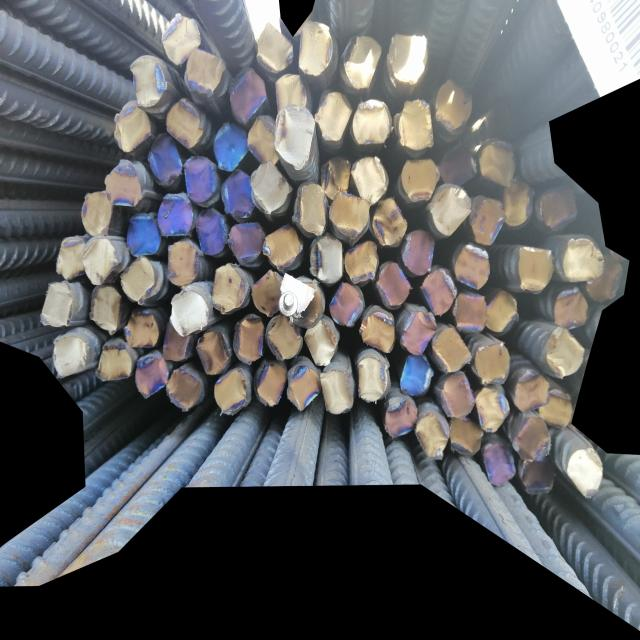Steel-Rod: (180, 49, 241, 102), (292, 15, 334, 86), (102, 155, 155, 210), (386, 35, 438, 90), (149, 187, 201, 238), (158, 12, 204, 67), (343, 31, 384, 92), (226, 64, 266, 126), (329, 191, 373, 247), (133, 53, 174, 113), (274, 112, 316, 170), (111, 100, 152, 159), (210, 117, 253, 173), (168, 289, 216, 339), (250, 25, 296, 77), (180, 151, 222, 207), (118, 259, 168, 306), (400, 225, 440, 283), (473, 433, 515, 488), (371, 260, 416, 311), (229, 304, 266, 366), (166, 96, 208, 150), (428, 184, 470, 238), (303, 307, 340, 368), (322, 279, 368, 328), (544, 329, 590, 378), (432, 82, 477, 132), (368, 200, 413, 250), (88, 281, 128, 337), (357, 95, 393, 157), (219, 167, 258, 224), (160, 237, 205, 286), (455, 289, 495, 344), (398, 97, 436, 154), (84, 238, 131, 284), (147, 131, 183, 191), (511, 247, 556, 295), (471, 144, 522, 186), (213, 369, 254, 421), (292, 181, 330, 237), (398, 301, 436, 357), (561, 238, 605, 286), (214, 261, 251, 318), (510, 414, 552, 464), (287, 358, 323, 416), (291, 270, 327, 328), (81, 191, 124, 239), (120, 307, 163, 355), (169, 362, 206, 417), (44, 281, 89, 326), (94, 337, 136, 385), (262, 222, 304, 270), (264, 312, 302, 365), (255, 162, 292, 216), (438, 372, 477, 423), (432, 323, 471, 374), (194, 331, 232, 383), (357, 305, 397, 354), (319, 366, 358, 416), (194, 203, 227, 262), (567, 448, 603, 502), (54, 331, 95, 378), (379, 388, 415, 441), (228, 217, 266, 267), (123, 216, 170, 256), (318, 88, 352, 143), (416, 269, 455, 316), (304, 242, 347, 284), (475, 340, 511, 390), (513, 364, 549, 414), (487, 290, 523, 340), (393, 159, 440, 197), (455, 240, 491, 289), (341, 241, 380, 286), (417, 408, 449, 462), (440, 145, 480, 188), (442, 419, 483, 460), (500, 185, 538, 229), (471, 194, 502, 247), (353, 161, 392, 203), (157, 317, 191, 365), (544, 382, 577, 431), (252, 362, 287, 408), (553, 286, 592, 327), (520, 458, 558, 500), (546, 187, 581, 232), (314, 154, 352, 195), (355, 354, 388, 401), (255, 270, 287, 317), (400, 355, 433, 399), (275, 75, 312, 114), (479, 386, 508, 435), (57, 233, 88, 278), (137, 354, 168, 399), (251, 121, 279, 163)
